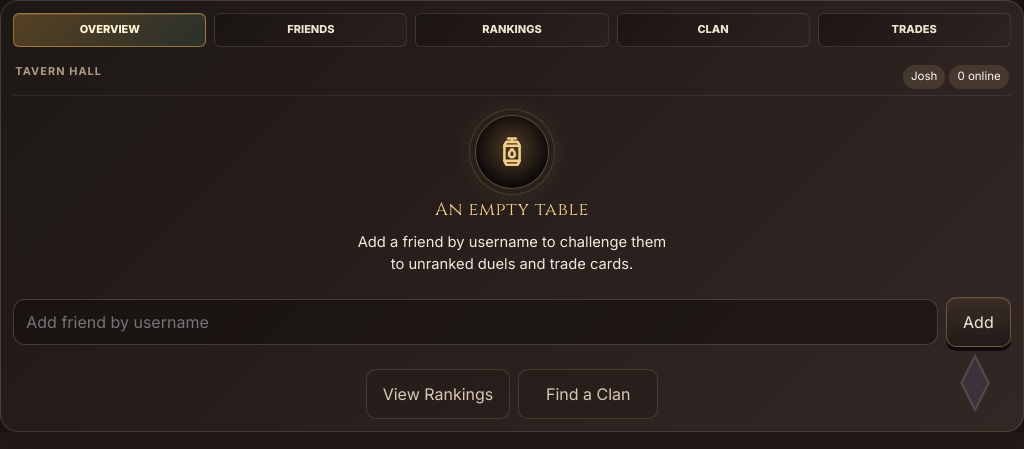
Scenario: SocialScreen hub flow › shows clan subview content when Clan nav button is clicked
Step 1. Click the button "Clan" → [713, 30], box 616,13 -> 810,47
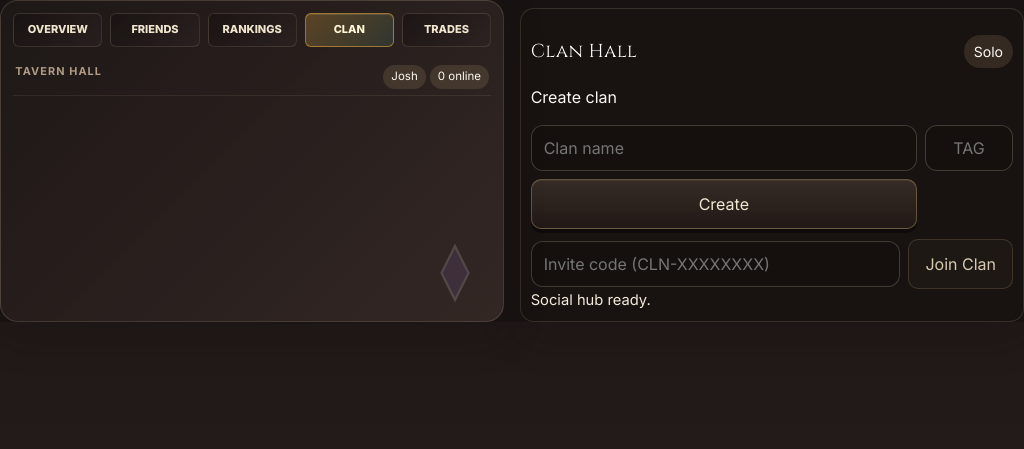
Check: the heading "Clan Hall" is shown, box 531,38 -> 637,66
